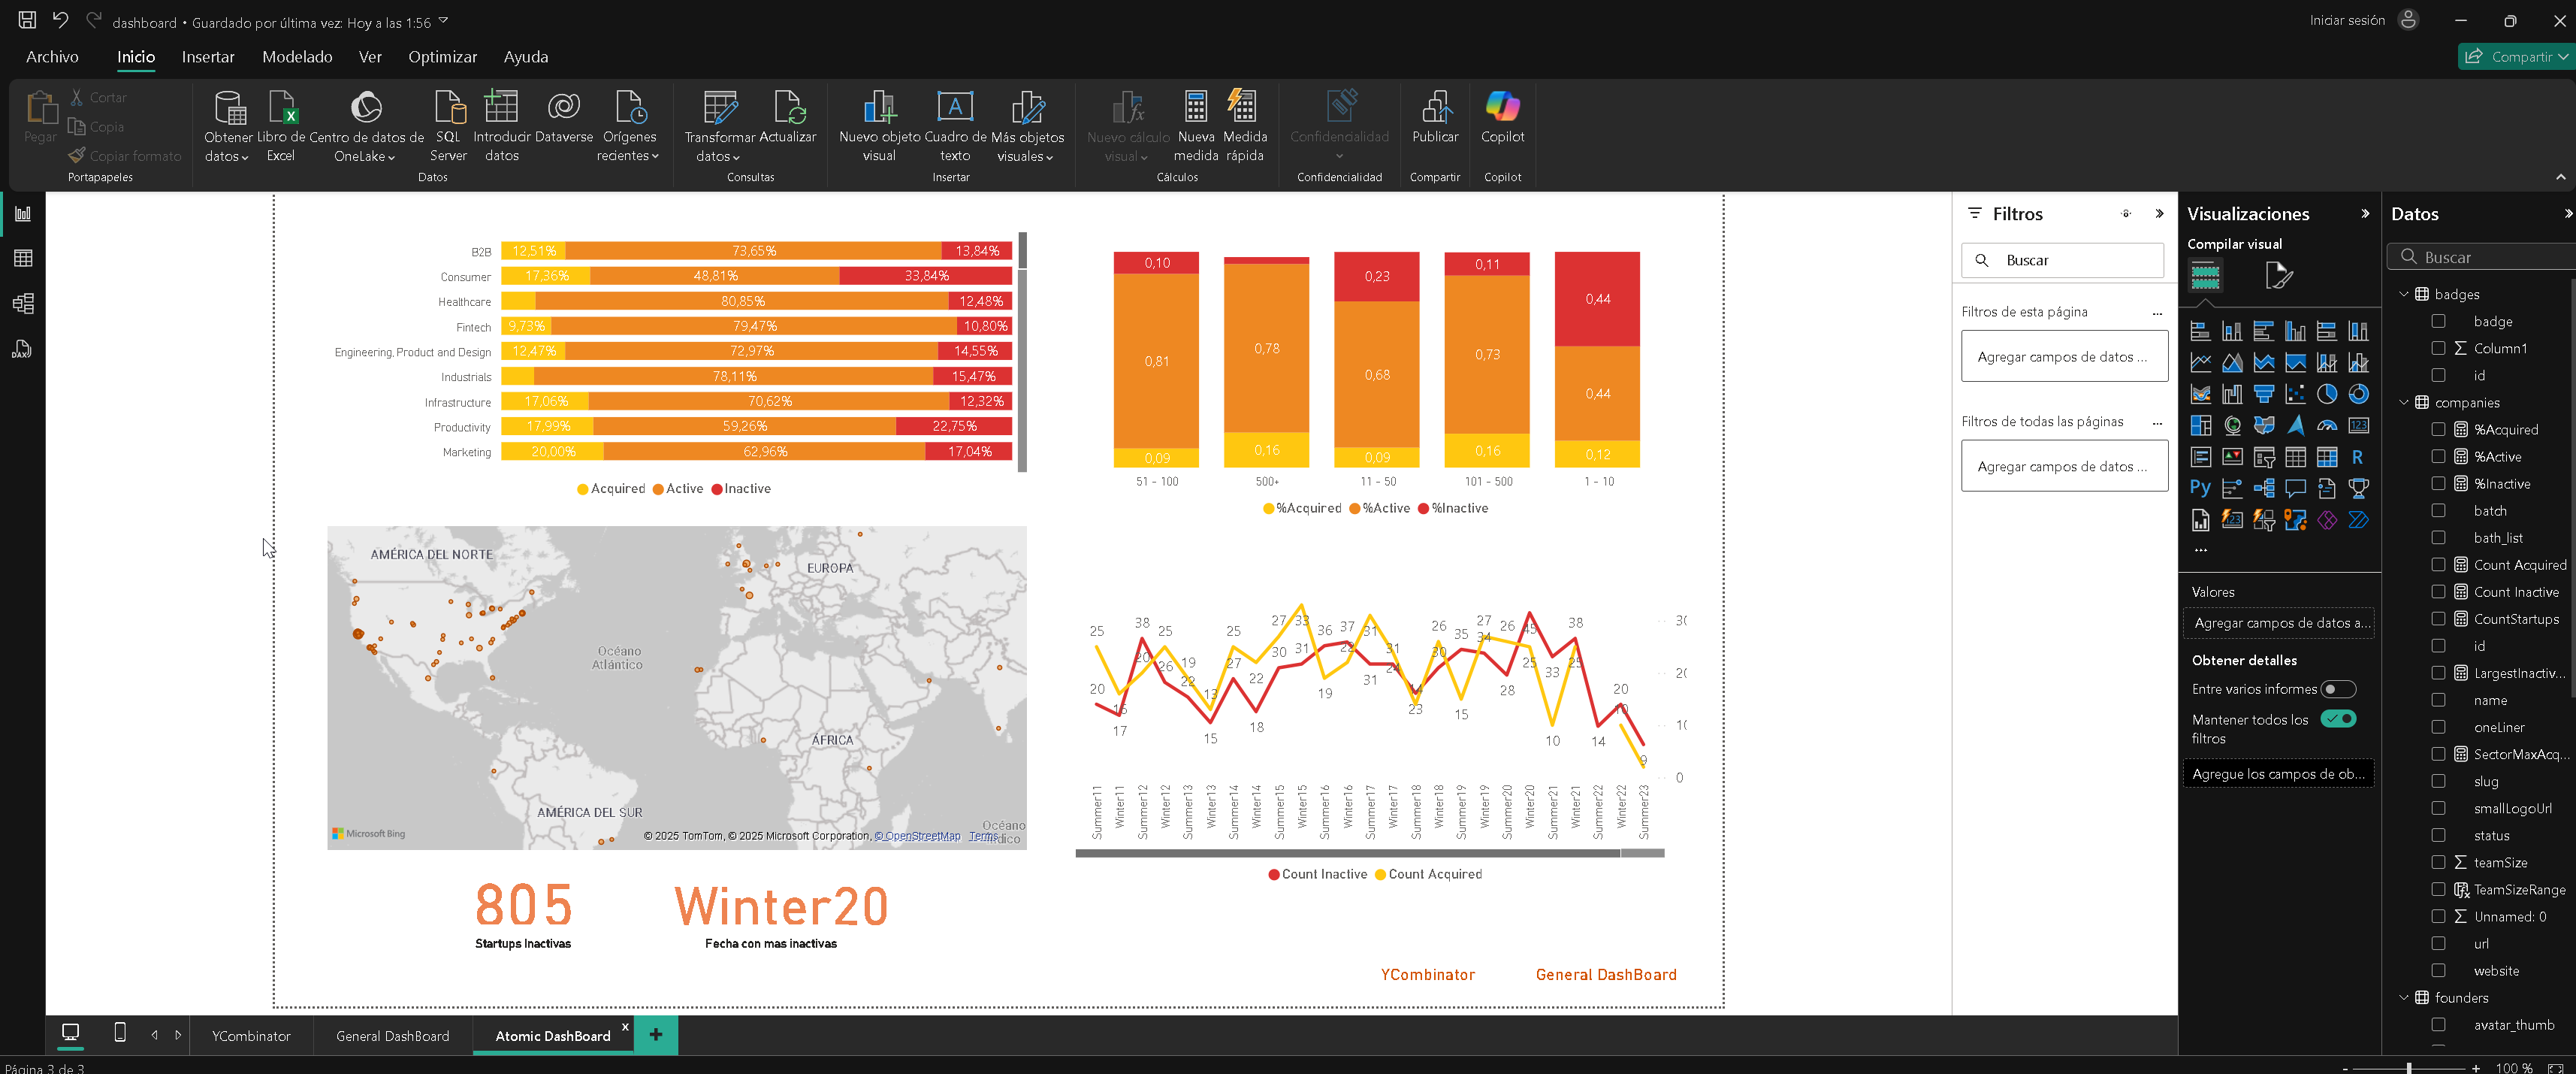

Layout of this report page (visuals, bound fields, positions):
{"tool":"powerbi","page":{"name":"Atomic DashBoard","canvas":[1280,720],"ordinal":2},"visuals":[{"type":"hundredPercentStackedBarChart","fields":{"Series":["companies.status"],"Category":["industries.industry"],"Y":["CountNonNull(companies.id)"]},"box":[40.8,21.9,628.7,260],"z":0},{"type":"pageNavigator","box":[945.1,677.8,307.6,28.4],"z":1000},{"type":"columnChart","fields":{"Category":["companies.TeamSizeRange"],"Y":["companies.%Acquired","companies.%Active","companies.%Inactive"]},"box":[697.4,38.9,555.9,260],"z":2000},{"type":"lineChart","fields":{"Category":["companies.batch"],"Y":["companies.Count Inactive"],"Y2":["companies.Count Acquired"]},"box":[697.4,341.7,555.9,281],"z":3000},{"type":"map","fields":{"Category":["regions.address"],"Size":["companies.Count Inactive"]},"box":[40.8,289.9,628.7,296.9],"z":4000},{"type":"card","fields":{"Values":["companies.Count Inactive"]},"box":[146.5,582.5,147.5,80.7],"z":6000},{"type":"textbox","box":[152.4,647.6,134.5,31.9],"z":6500},{"type":"card","fields":{"Values":["companies.LargestInactiveBatch"]},"box":[330.8,586.8,234.1,76.7],"z":7000},{"type":"textbox","box":[372.6,647.6,134.5,31.9],"z":7001}]}

Visuals, with their boxes on the page's 1280x720 design canvas (x1, y1, x2, y2). These are canvas units, not pixel positions in the 2576x1074 screenshot, which may show the page scaled, cropped or inside an application window:
hundredPercentStackedBarChart - companies.status x industries.industry: 41:22:670:282
pageNavigator: 945:678:1253:706
columnChart - companies.TeamSizeRange x companies.%Acquired: 697:39:1253:299
lineChart - companies.batch x companies.Count Inactive: 697:342:1253:623
map - regions.address x companies.Count Inactive: 41:290:670:587
card - companies.Count Inactive: 146:582:294:663
textbox: 152:648:287:680
card - companies.LargestInactiveBatch: 331:587:565:664
textbox: 373:648:507:680
